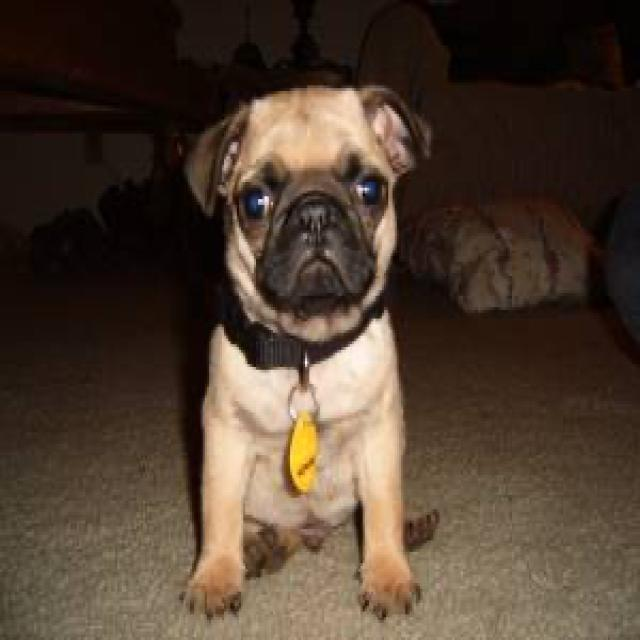dog: (181, 80, 429, 304)
